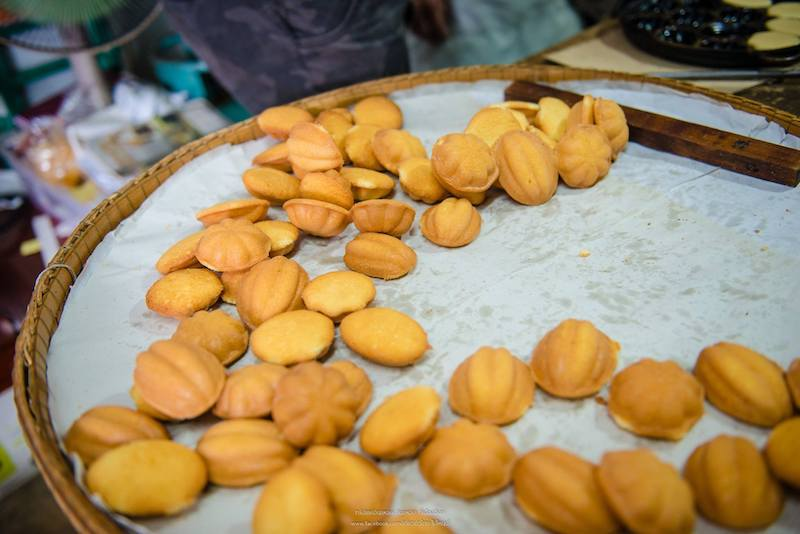kanomkai: (608, 348, 711, 457), (121, 333, 233, 429), (700, 333, 794, 439), (528, 306, 613, 411), (417, 417, 523, 501), (337, 295, 439, 376), (247, 297, 344, 377), (492, 113, 562, 213), (282, 118, 355, 205), (338, 222, 430, 288), (428, 122, 501, 202), (191, 217, 274, 275)
